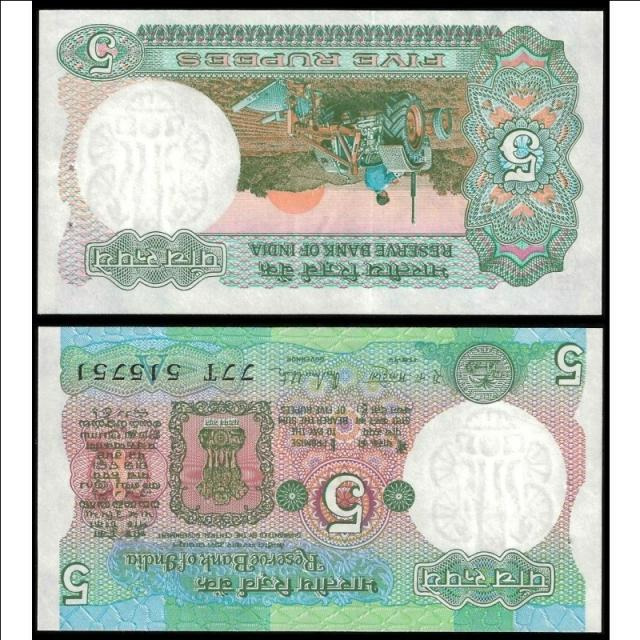5IndianRupees: (40, 9, 602, 313)
